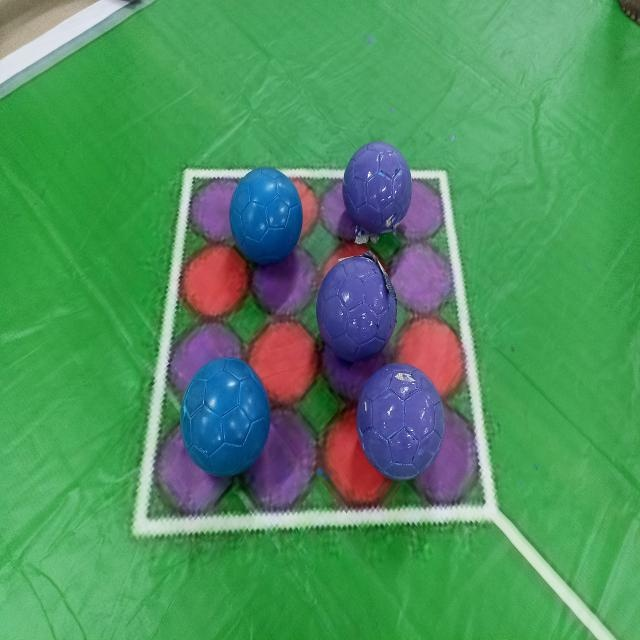blue_ball: (179, 356, 274, 480), (226, 164, 304, 272)
purple_ball: (358, 361, 447, 485), (317, 254, 397, 358), (340, 134, 414, 239)
